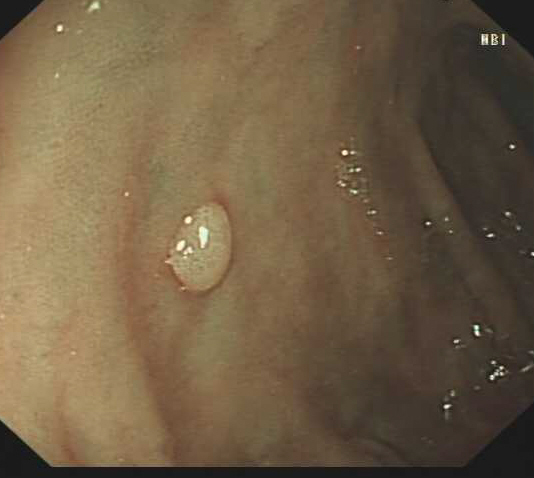others: (164, 197, 235, 296)
